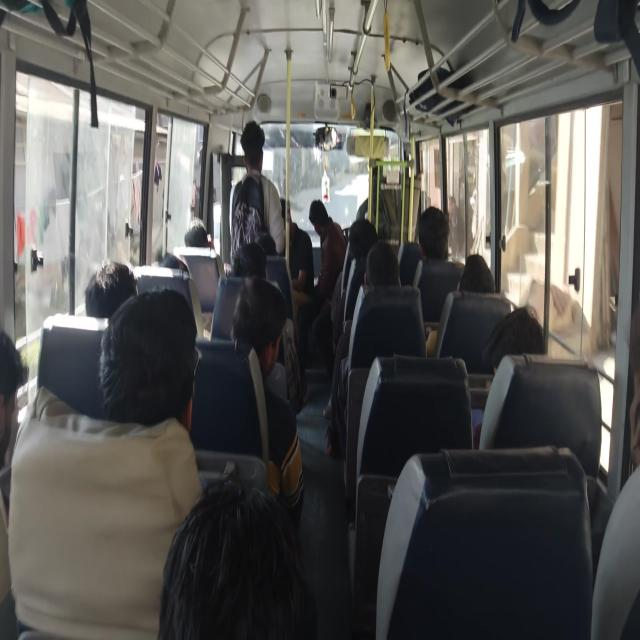person: (162, 501, 343, 640), (113, 302, 201, 416), (233, 274, 312, 365), (497, 312, 544, 378), (0, 328, 32, 421), (364, 252, 401, 329), (417, 196, 455, 263), (233, 122, 274, 174), (172, 222, 217, 266), (224, 235, 266, 275), (457, 248, 492, 294), (351, 215, 383, 265), (96, 270, 138, 308), (308, 194, 334, 254), (156, 253, 196, 281), (254, 228, 273, 256)
